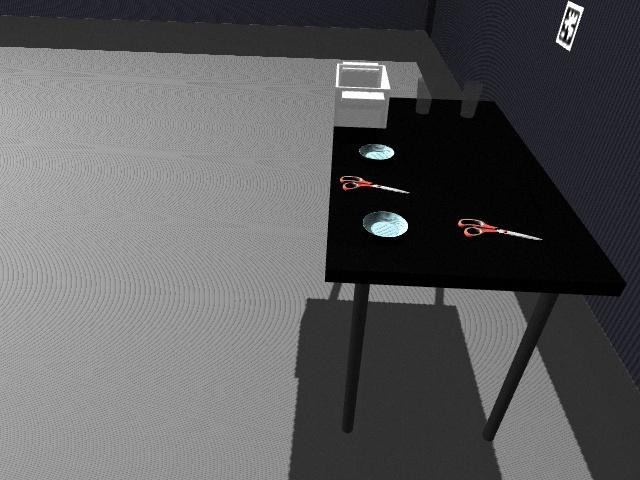cup: (460, 81, 482, 120), (415, 76, 431, 116)
plate: (361, 210, 410, 238), (358, 144, 395, 161)
scissors: (457, 217, 542, 242), (340, 174, 409, 194)
